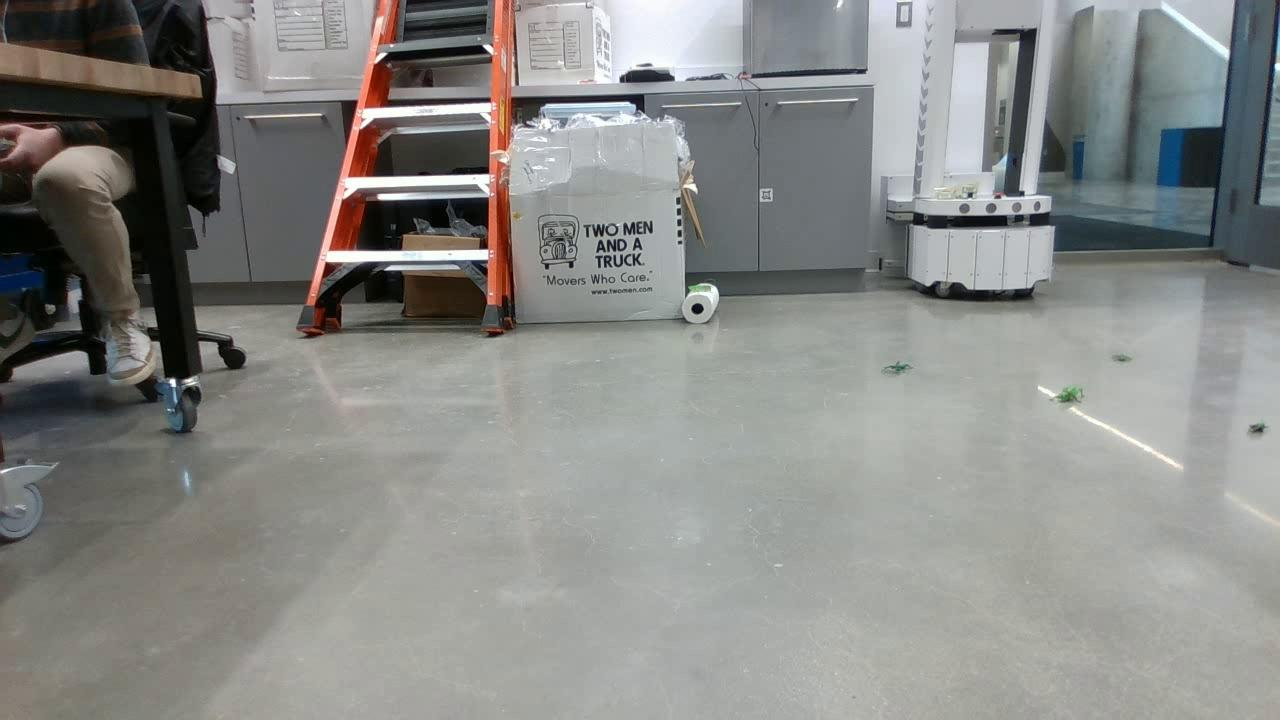grasshopper: (1057, 386, 1083, 404), (687, 286, 712, 293)
